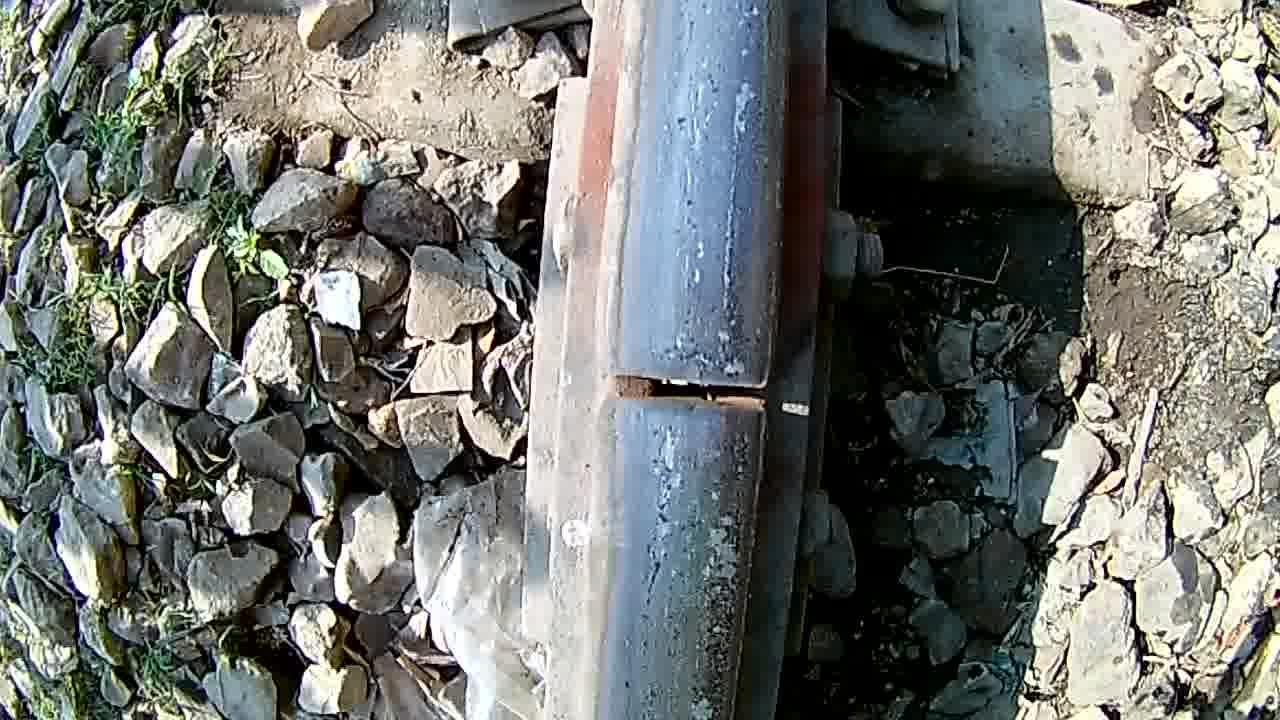clip_missing: (617, 2, 794, 344), (624, 443, 763, 720)
